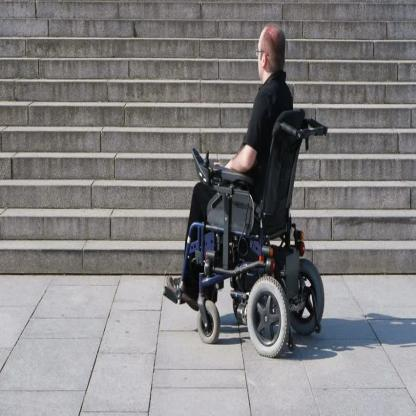wheelchair: (165, 23, 327, 352)
